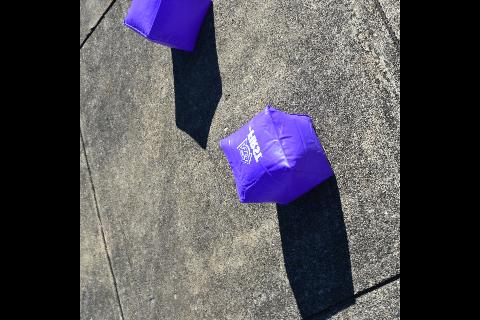cube: (220, 106, 332, 204), (124, 0, 212, 52)
